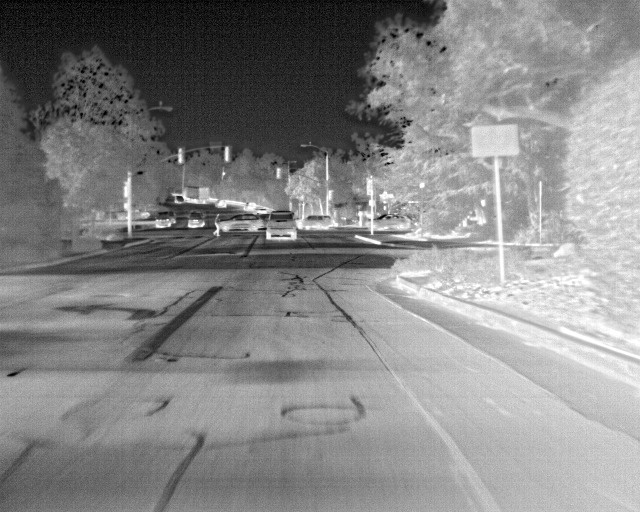vehicle: (217, 212, 265, 238), (265, 211, 299, 241), (300, 214, 333, 232), (154, 209, 176, 229), (189, 213, 205, 229)
